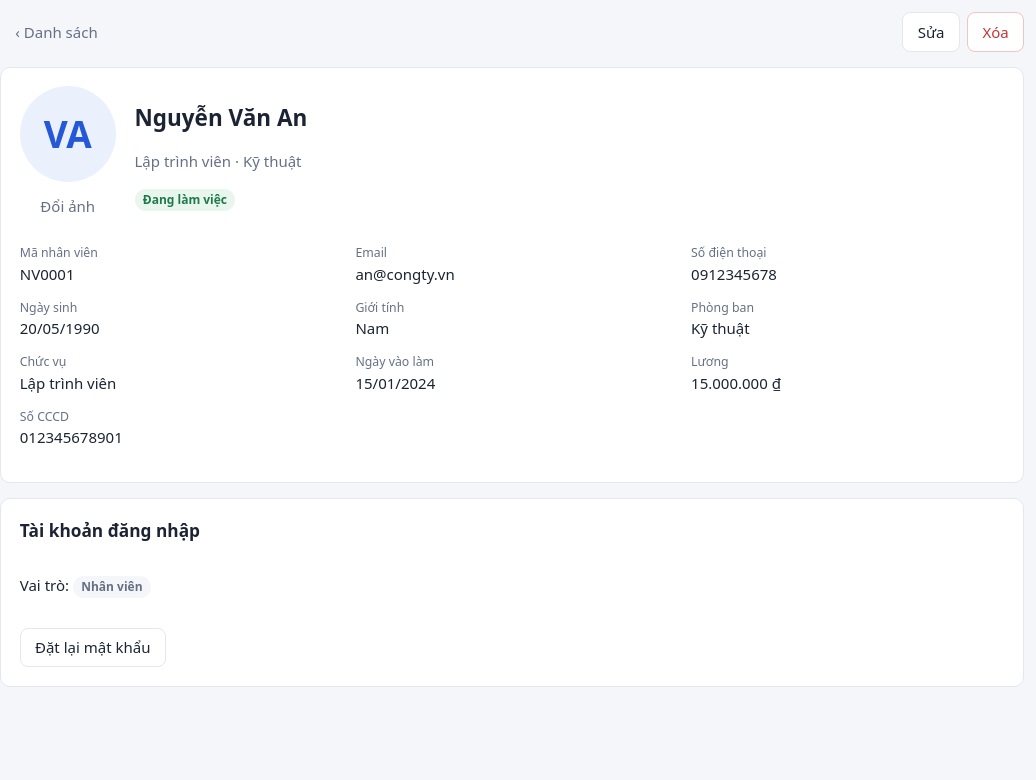
Test: EmployeeDetailPage › resets the password and shows the new temporary one
Click the button "Đặt lại mật khẩu" at (93,647), box x1=20 y1=628 x2=166 y2=667
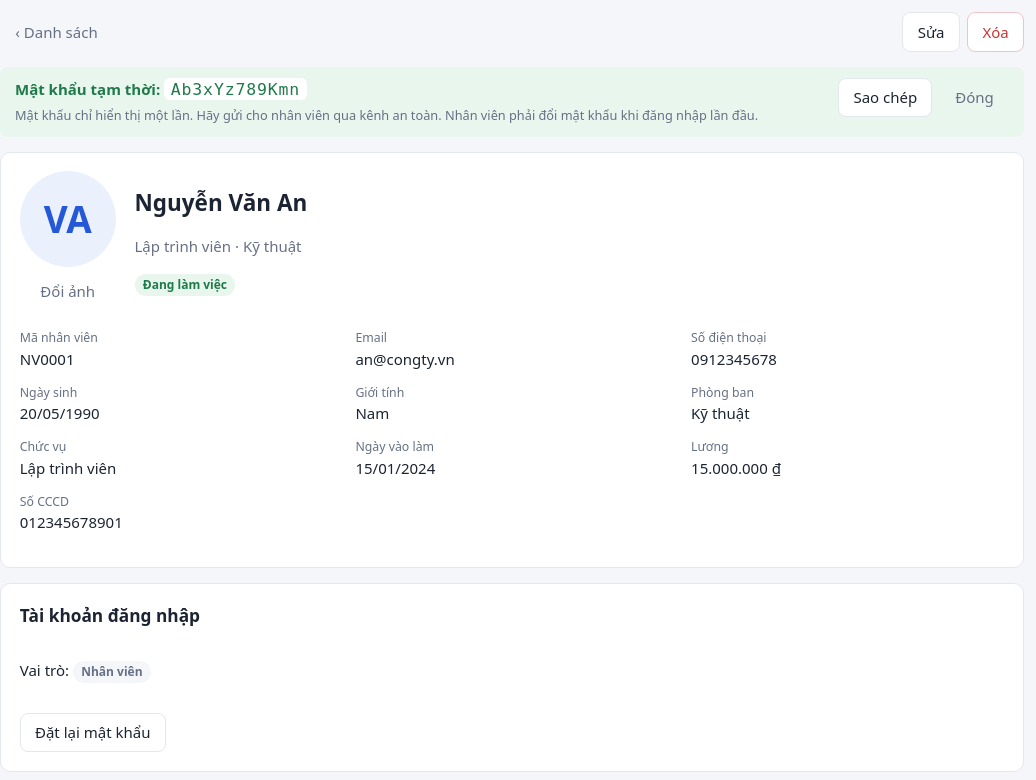
Expected: the text "Ab3xYz789Kmn" is shown, x1=164 y1=78 x2=307 y2=100
